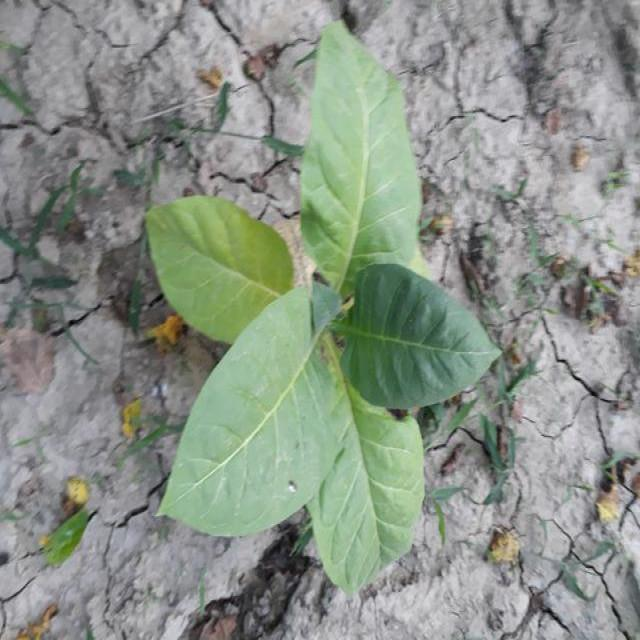crop: (135, 36, 498, 596)
